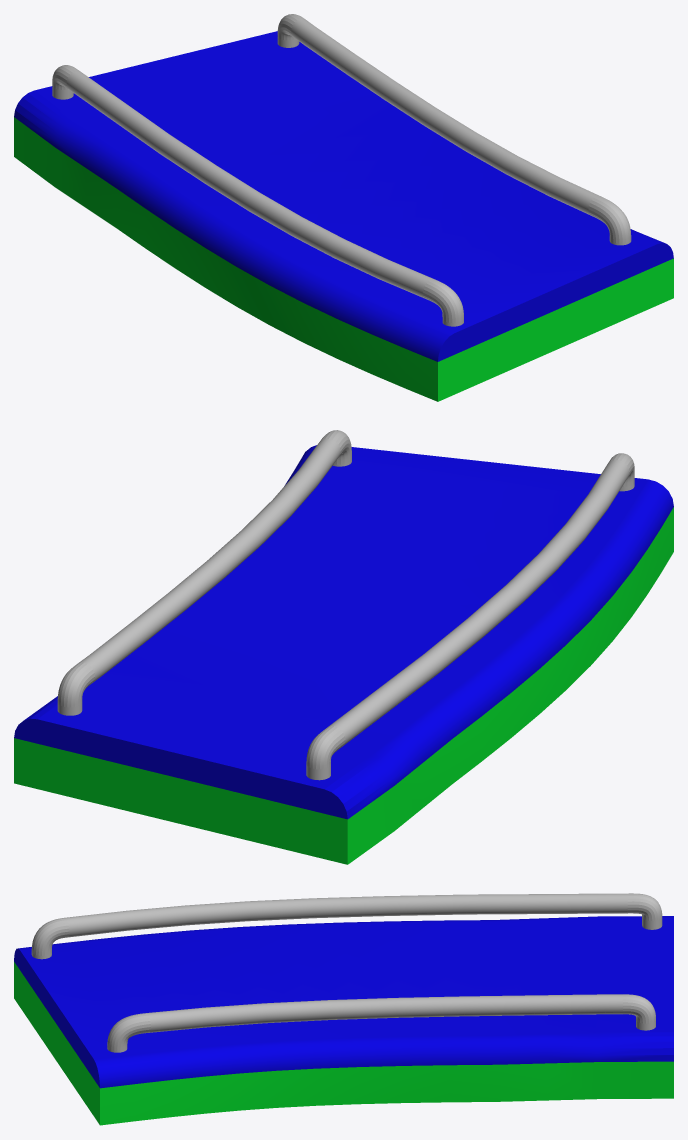
3 renders of one model, top to bottom at view 1: azimuth 30°, elevation 25°; view 2: azimuth 150°, elevation 25°; view 3: azimuth 270°, elevation 25°, orthographic. The views are drawn at different scales.
Visible parts, largest first — view 1: polySurface1, pCylinder57, pCylinder55; view 2: polySurface1, pCylinder57, pCylinder55; view 3: polySurface1, pCylinder57, pCylinder55.
Part boxes in pixels (x1=…): polySurface1: x1=14, y1=31, x2=673, y2=401; pCylinder57: x1=52, y1=65, x2=463, y2=326; pCylinder55: x1=277, y1=14, x2=631, y2=245; polySurface1: x1=14, y1=445, x2=673, y2=864; pCylinder57: x1=306, y1=453, x2=634, y2=780; pCylinder55: x1=57, y1=430, x2=351, y2=715; polySurface1: x1=14, y1=916, x2=673, y2=1125; pCylinder57: x1=31, y1=893, x2=662, y2=959; pCylinder55: x1=107, y1=994, x2=655, y2=1052.
Size of the model in its own units: 598 by 157 by 1049.
